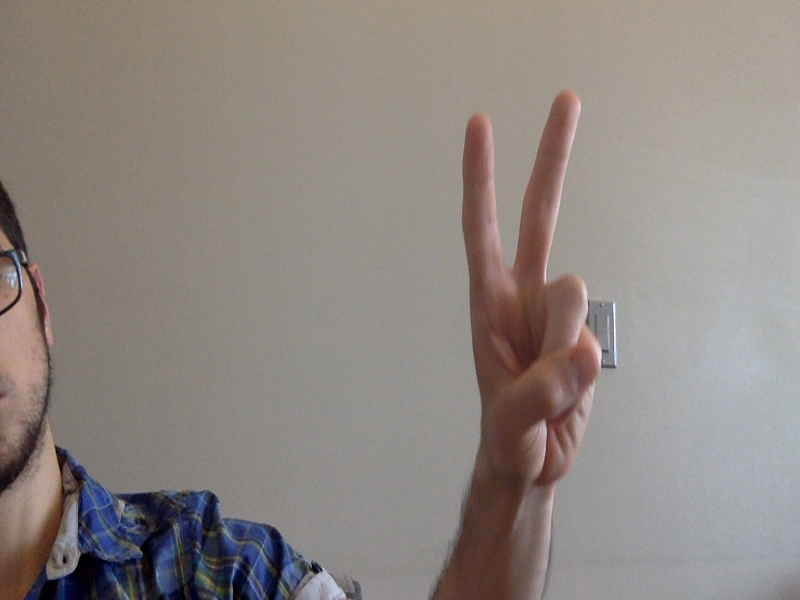2-hand: (461, 90, 602, 492)
